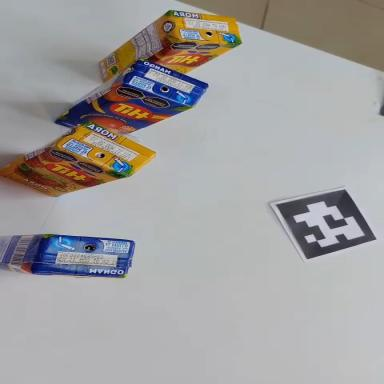HIT-MANGO: (46, 38, 213, 160), (0, 231, 135, 279)
HIT-MORA: (88, 0, 247, 108), (0, 106, 160, 209)
cara_F: (50, 62, 193, 157), (0, 129, 129, 223), (146, 13, 242, 87)
